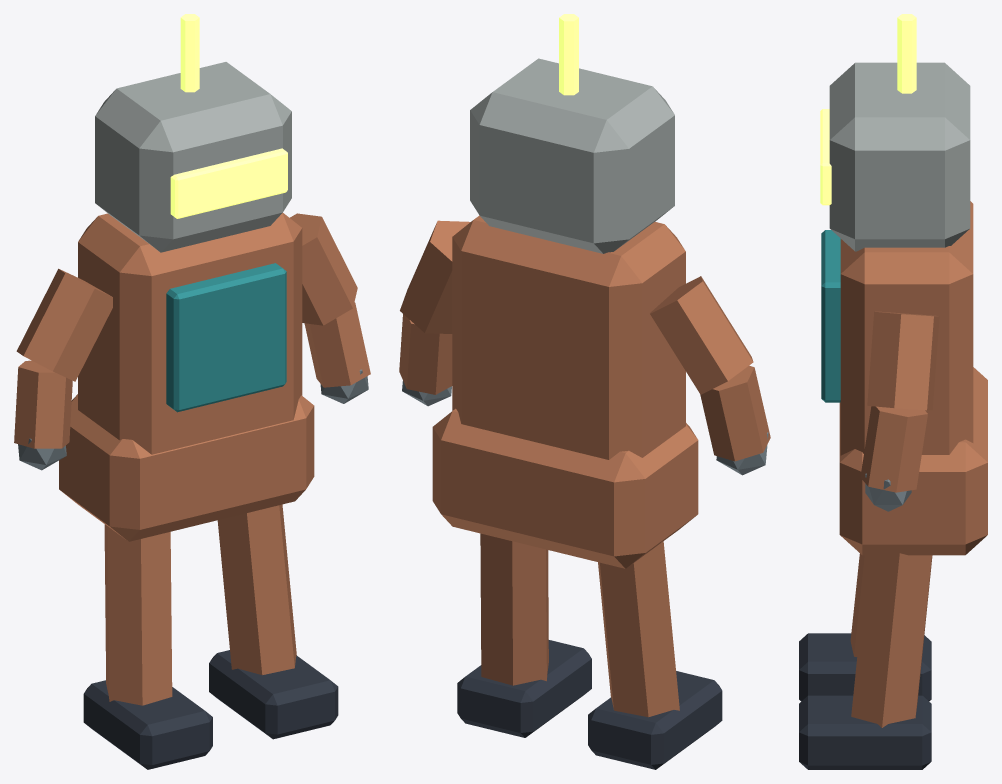
The model's file is npcs_022_seed78877.glb.
3 views of the same model, side by side, from view 1: azimuth 30°, elevation 25°; view 2: azimuth 150°, elevation 25°; view 3: azimuth 270°, elevation 25° (orthographic). The views are drawn at different scales.
Parts seen in each view (by area): view 1: npcs_022_seed78877; view 2: npcs_022_seed78877; view 3: npcs_022_seed78877.
Part boxes in pixels (x1,y1,x2,y2): npcs_022_seed78877: (14, 14, 370, 769); npcs_022_seed78877: (399, 14, 770, 769); npcs_022_seed78877: (799, 14, 987, 769).
Bounding box in the file's own units: 0.8874 × 1.68 × 0.4082.
